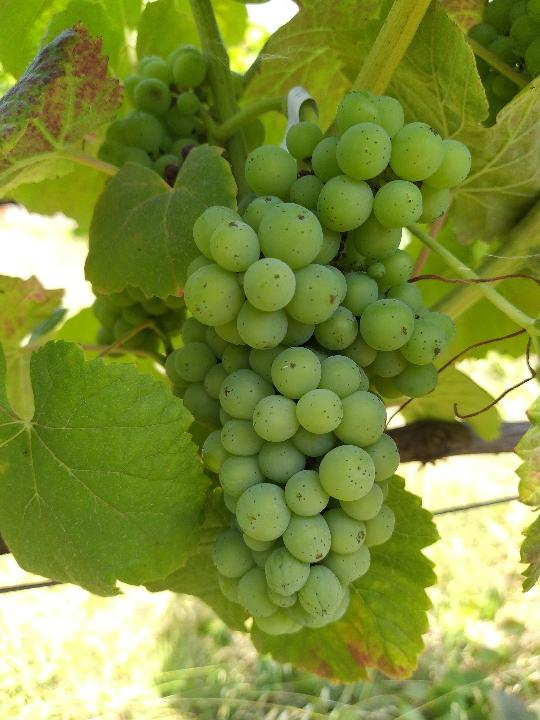grape: (160, 84, 473, 639)
